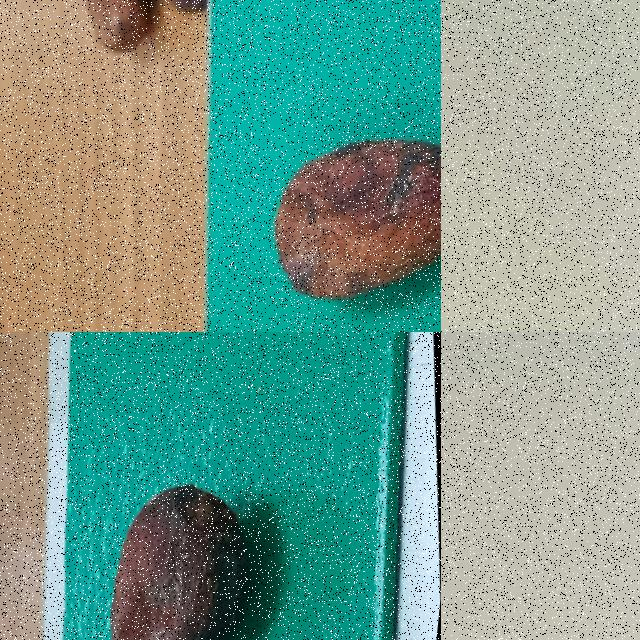Fine_cocoabeans: (207, 0, 440, 331), (58, 430, 330, 639)
